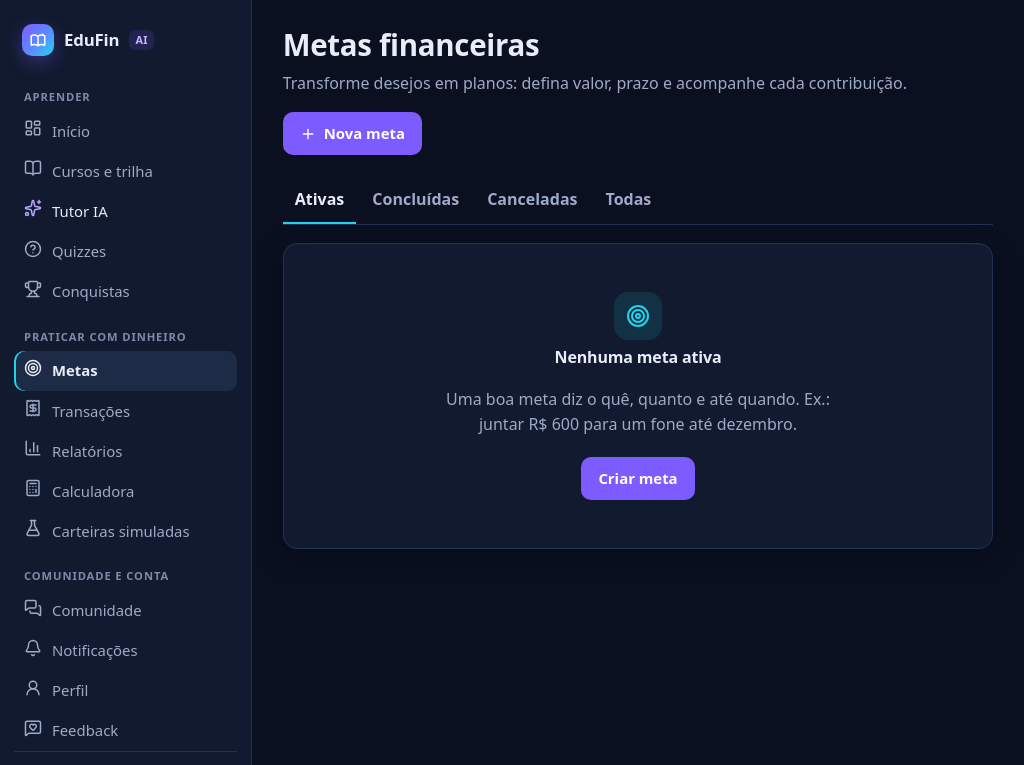
Scenario: metas › cria uma meta pelo formulário e atualiza a lista
The width and height of the screenshot is (1024, 765).
Expected: the heading "Nenhuma meta ativa" is shown, [555,348,722,367]
Click the button "Nova meta" at point(352, 134), box [283,112,422,155]
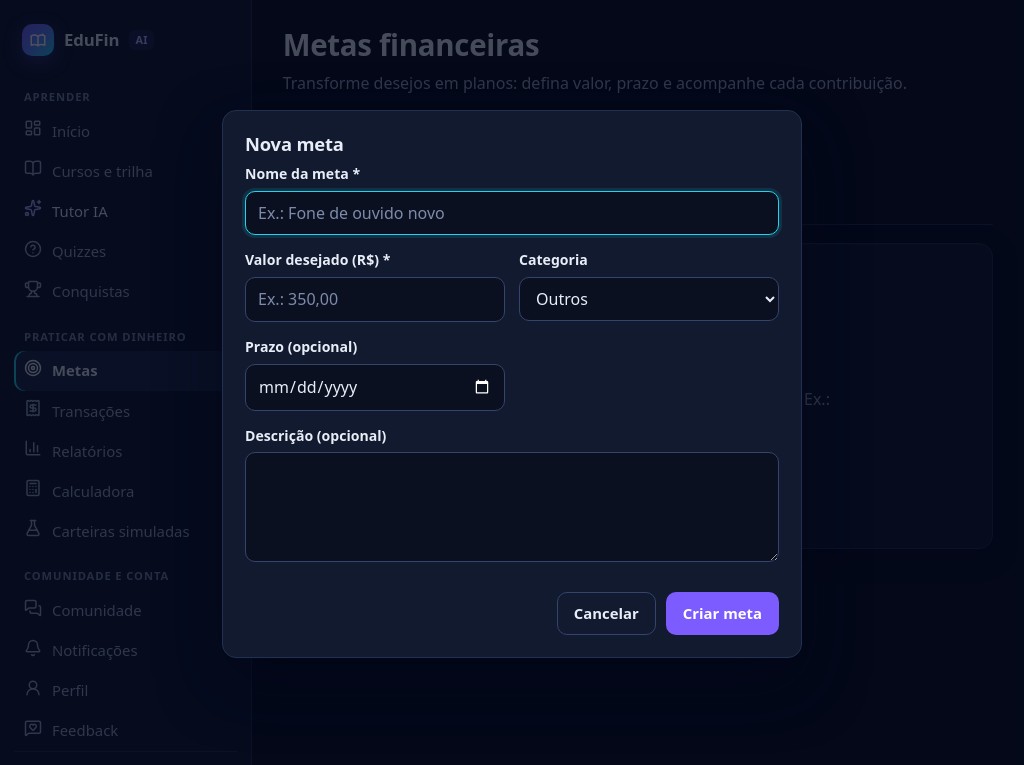
Click the button "Criar meta" at point(722, 614), box [666,592,779,635]
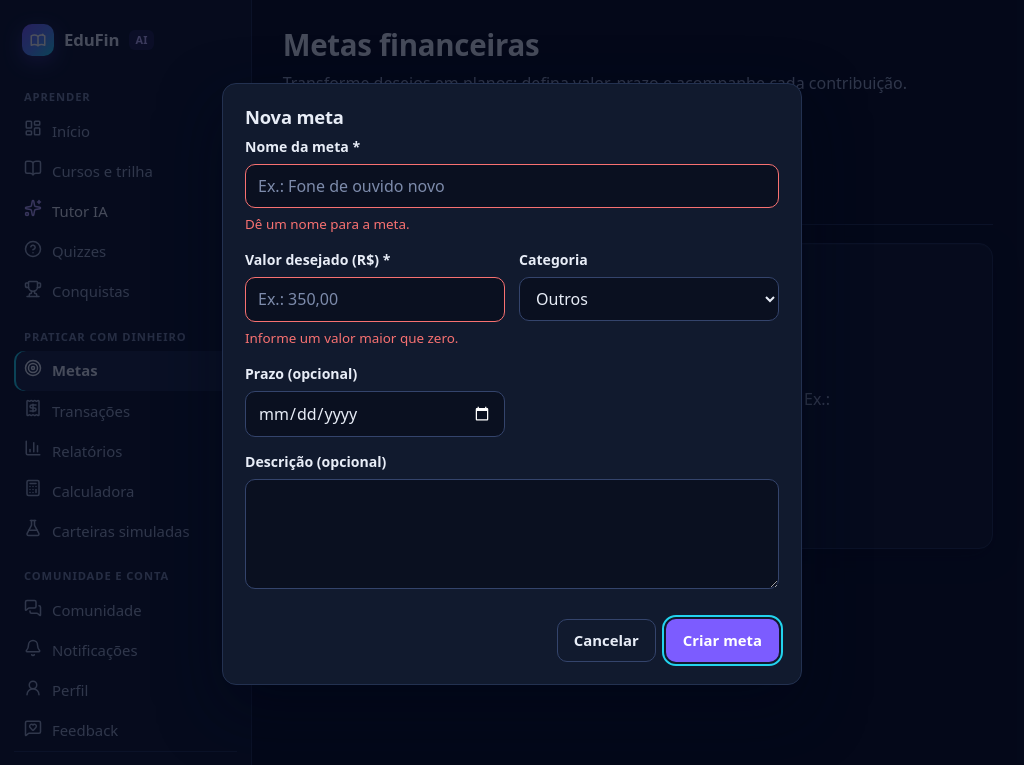
Result: the text "Dê um nome para a meta." is shown at [245,216,410,234]
Type "Fone novo" into the field labelled "Nome da meta *" at point(512, 186), box [245,164,779,208]
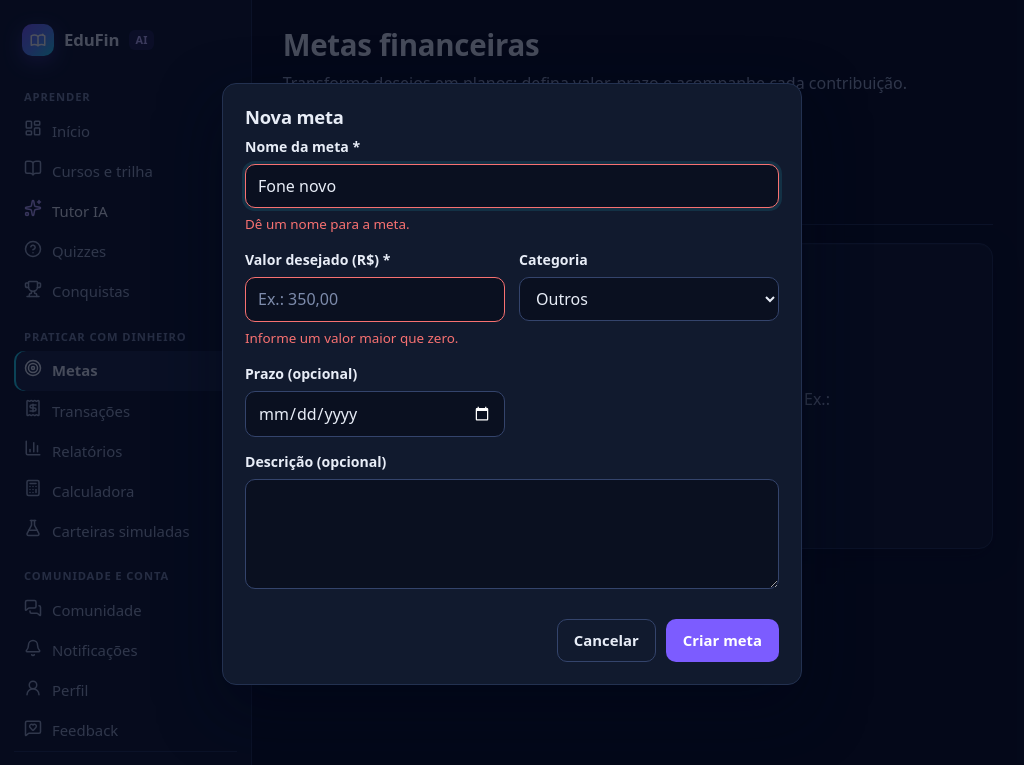
Type "300,00" into the field labelled "Valor desejado (R$) *" at point(375, 300), box [245,277,505,322]
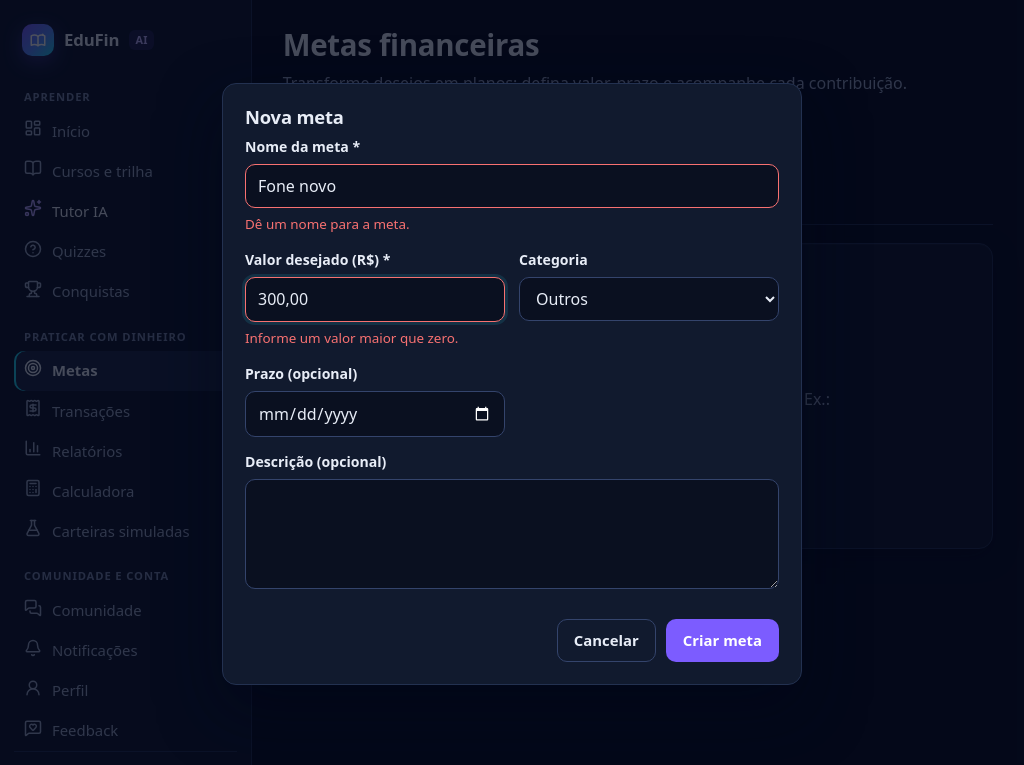
Click the button "Criar meta" at point(722, 641), box [666,619,779,662]
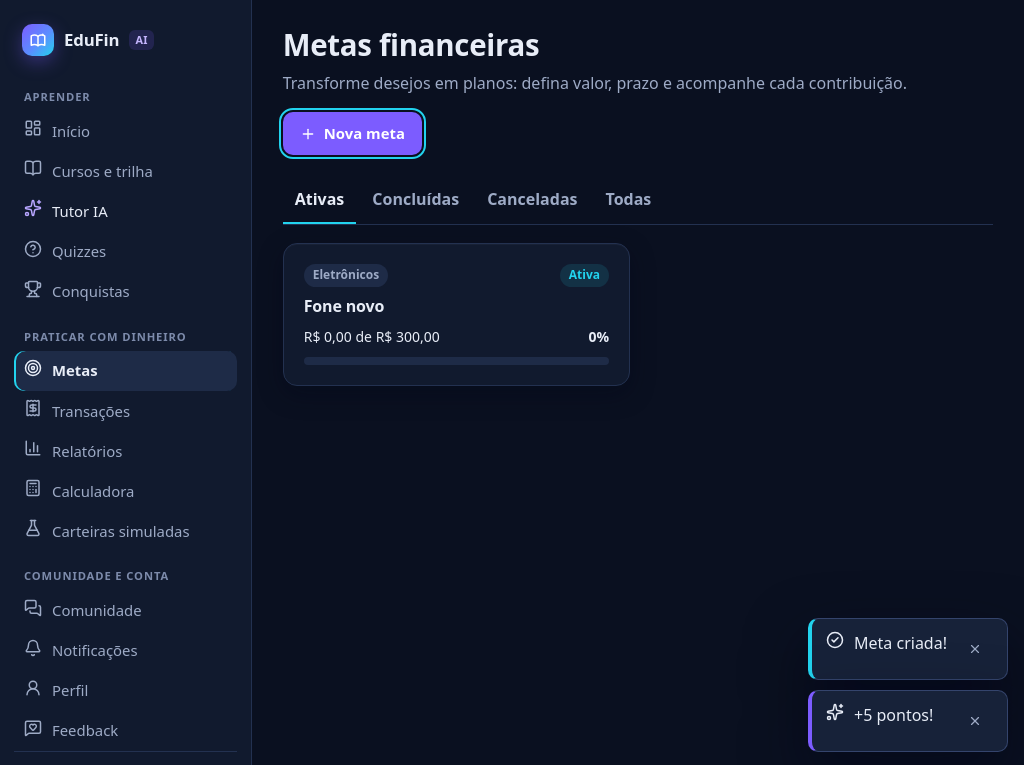
Result: the text "Meta criada!" is shown at [854,631,947,656]
Result: the text "+5 pontos!" is shown at [854,703,947,728]
Result: the heading "Fone novo" is shown at [304,294,384,316]
